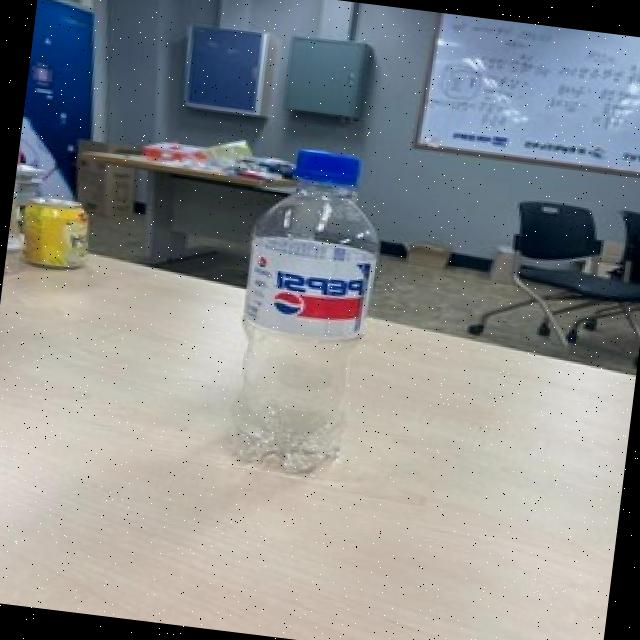bottle: (212, 134, 397, 492)
cap: (280, 141, 370, 195)
label: (222, 232, 387, 344)
